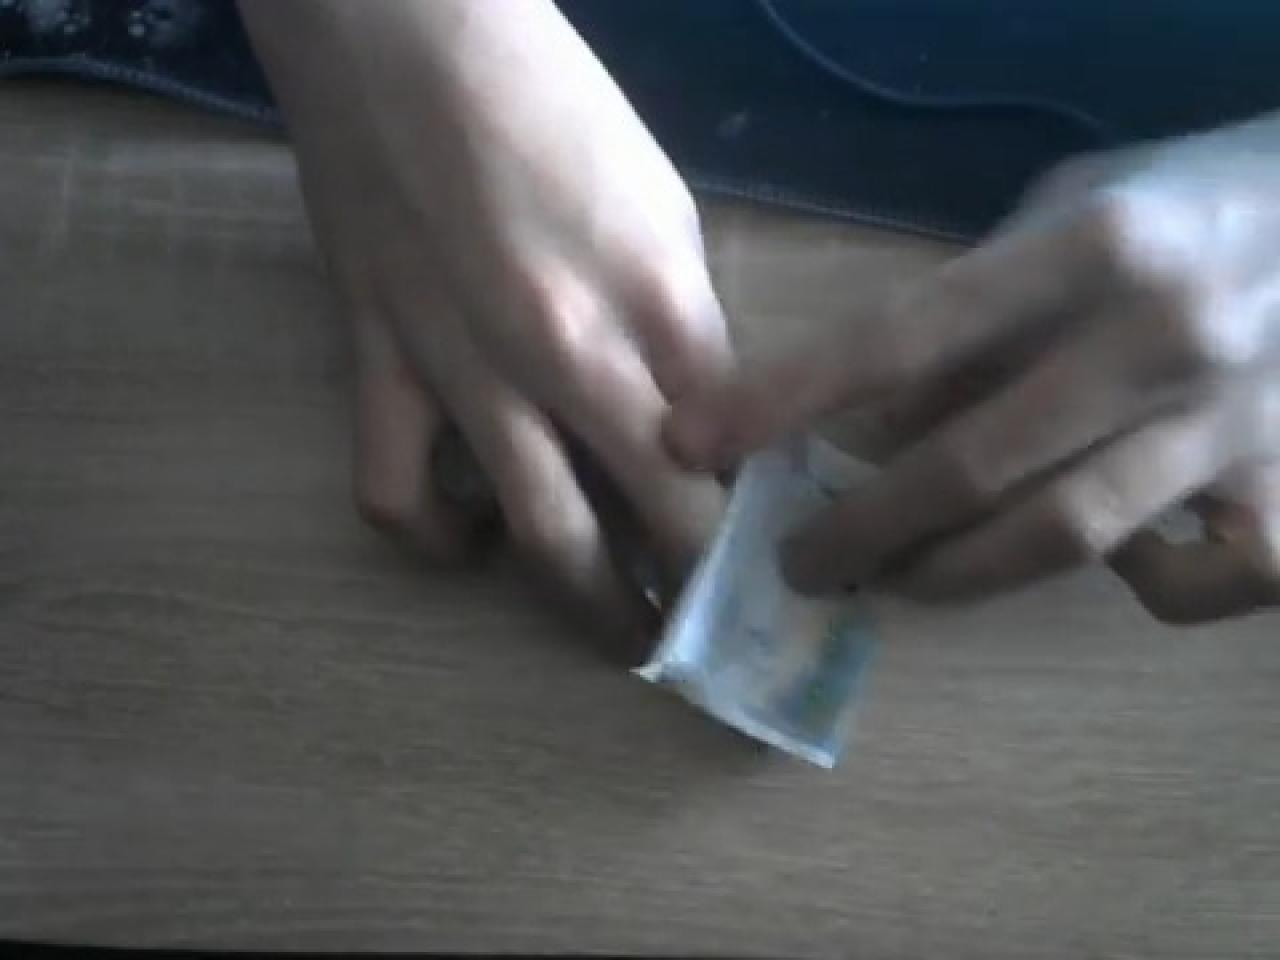20leva: (624, 425, 885, 770)
